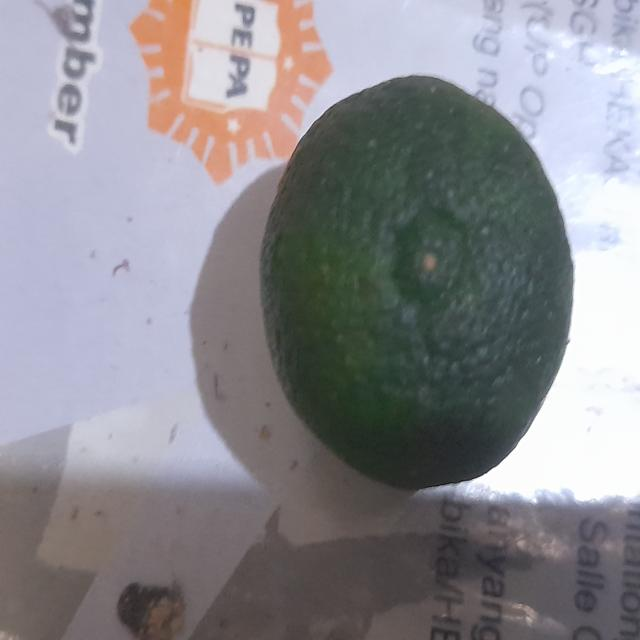heathy: (260, 70, 574, 493)
